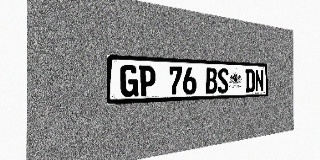6: (183, 67, 196, 95)
7: (168, 66, 182, 95)
B: (205, 68, 217, 94)
D: (245, 69, 255, 92)
G: (120, 65, 138, 97)
N: (255, 69, 264, 92)
P: (139, 65, 156, 96)
S: (218, 68, 229, 93)
